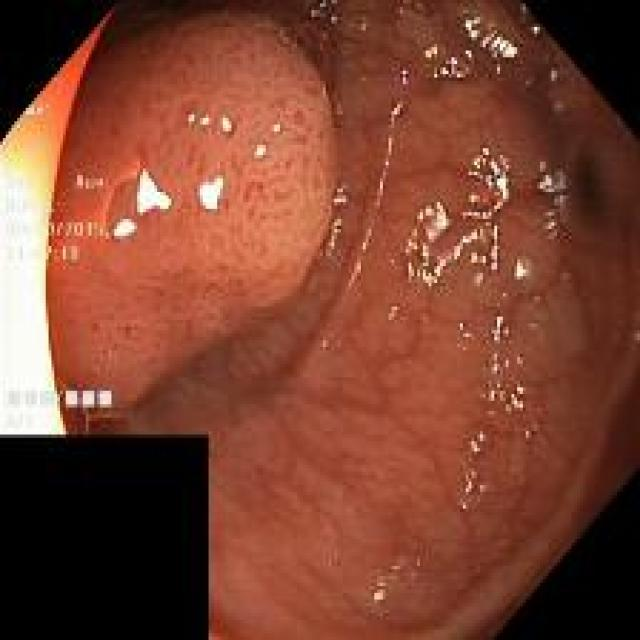Polyps: (49, 12, 336, 409)
